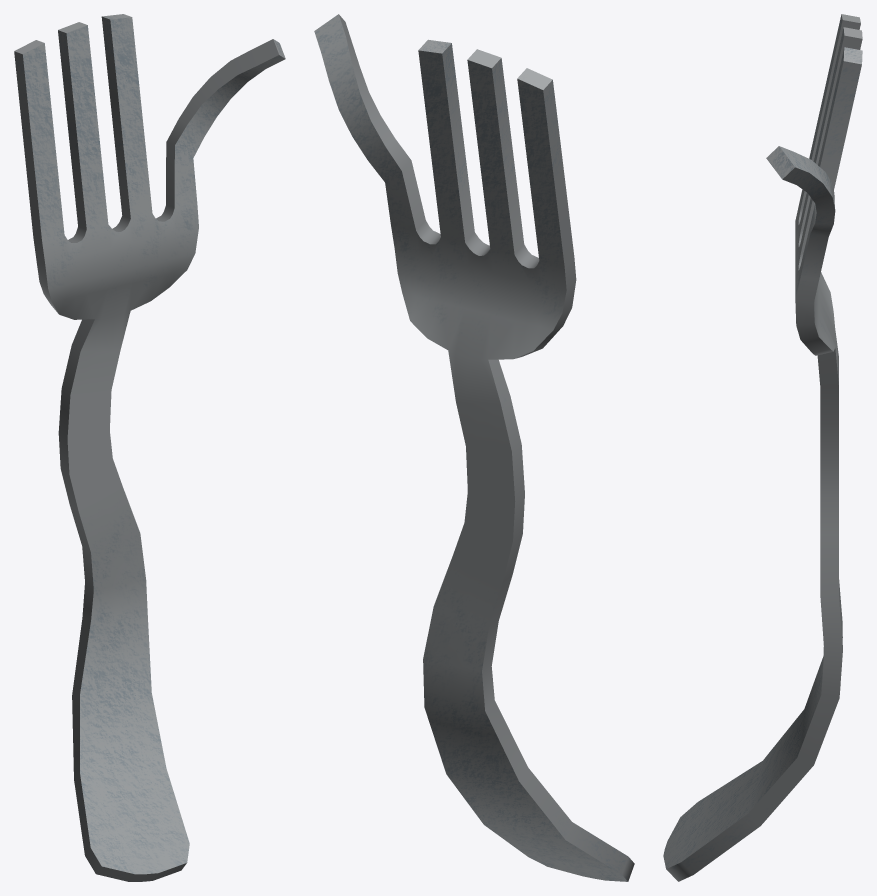
3 renders of one model, left to right at view 1: azimuth 30°, elevation 25°; view 2: azimuth 150°, elevation 25°; view 3: azimuth 270°, elevation 25°, orthographic. The views are drawn at different scales.
Visible parts, largest first — view 1: 포크; view 2: 포크; view 3: 포크.
Boxes of the visible parts, x1,y1,x2,y2 form: 포크: (14, 14, 285, 881); 포크: (314, 14, 634, 881); 포크: (663, 14, 862, 881).
Size of the model in its own units: 64.72 by 209 by 44.88.
Materials: 1 (1 with a texture image).
